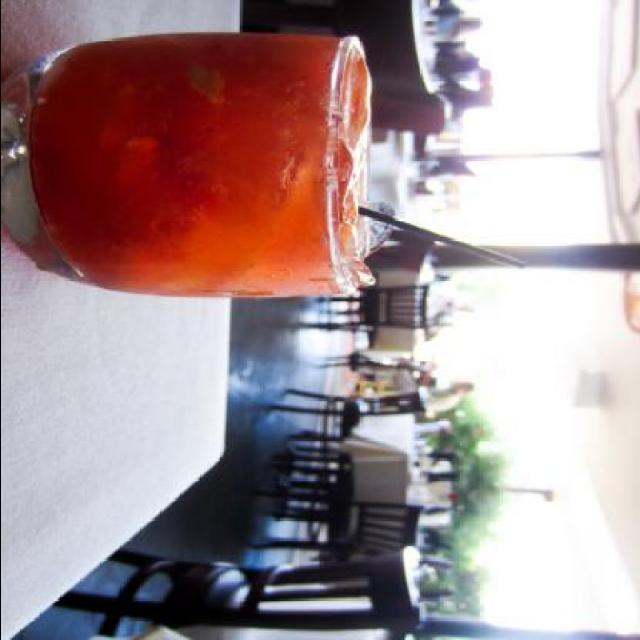Juice: (18, 25, 382, 301)
